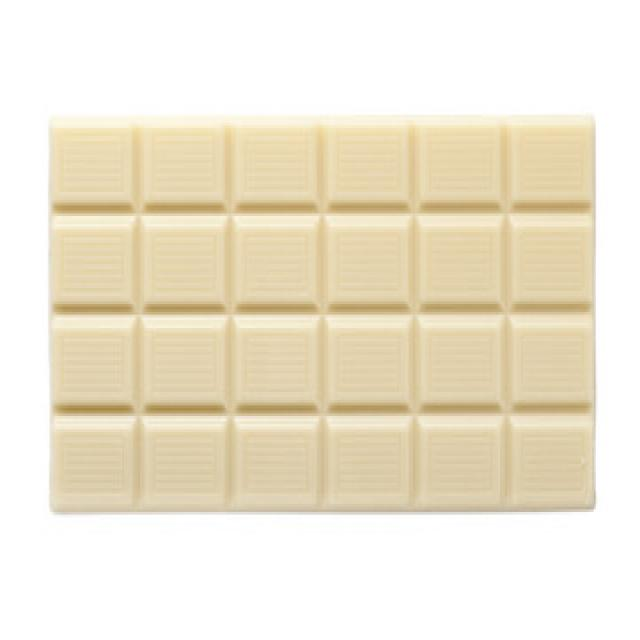chocolate: (48, 130, 599, 513)
